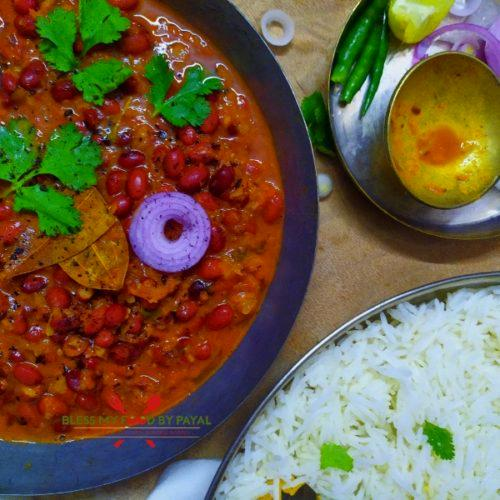rajma: (0, 4, 238, 489)
rice: (285, 282, 500, 500)
